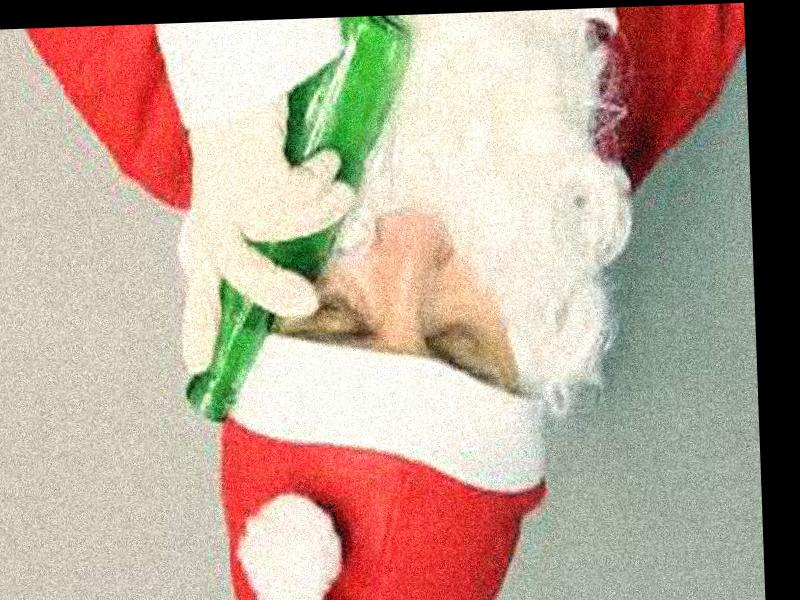Beer: (170, 14, 419, 419)
